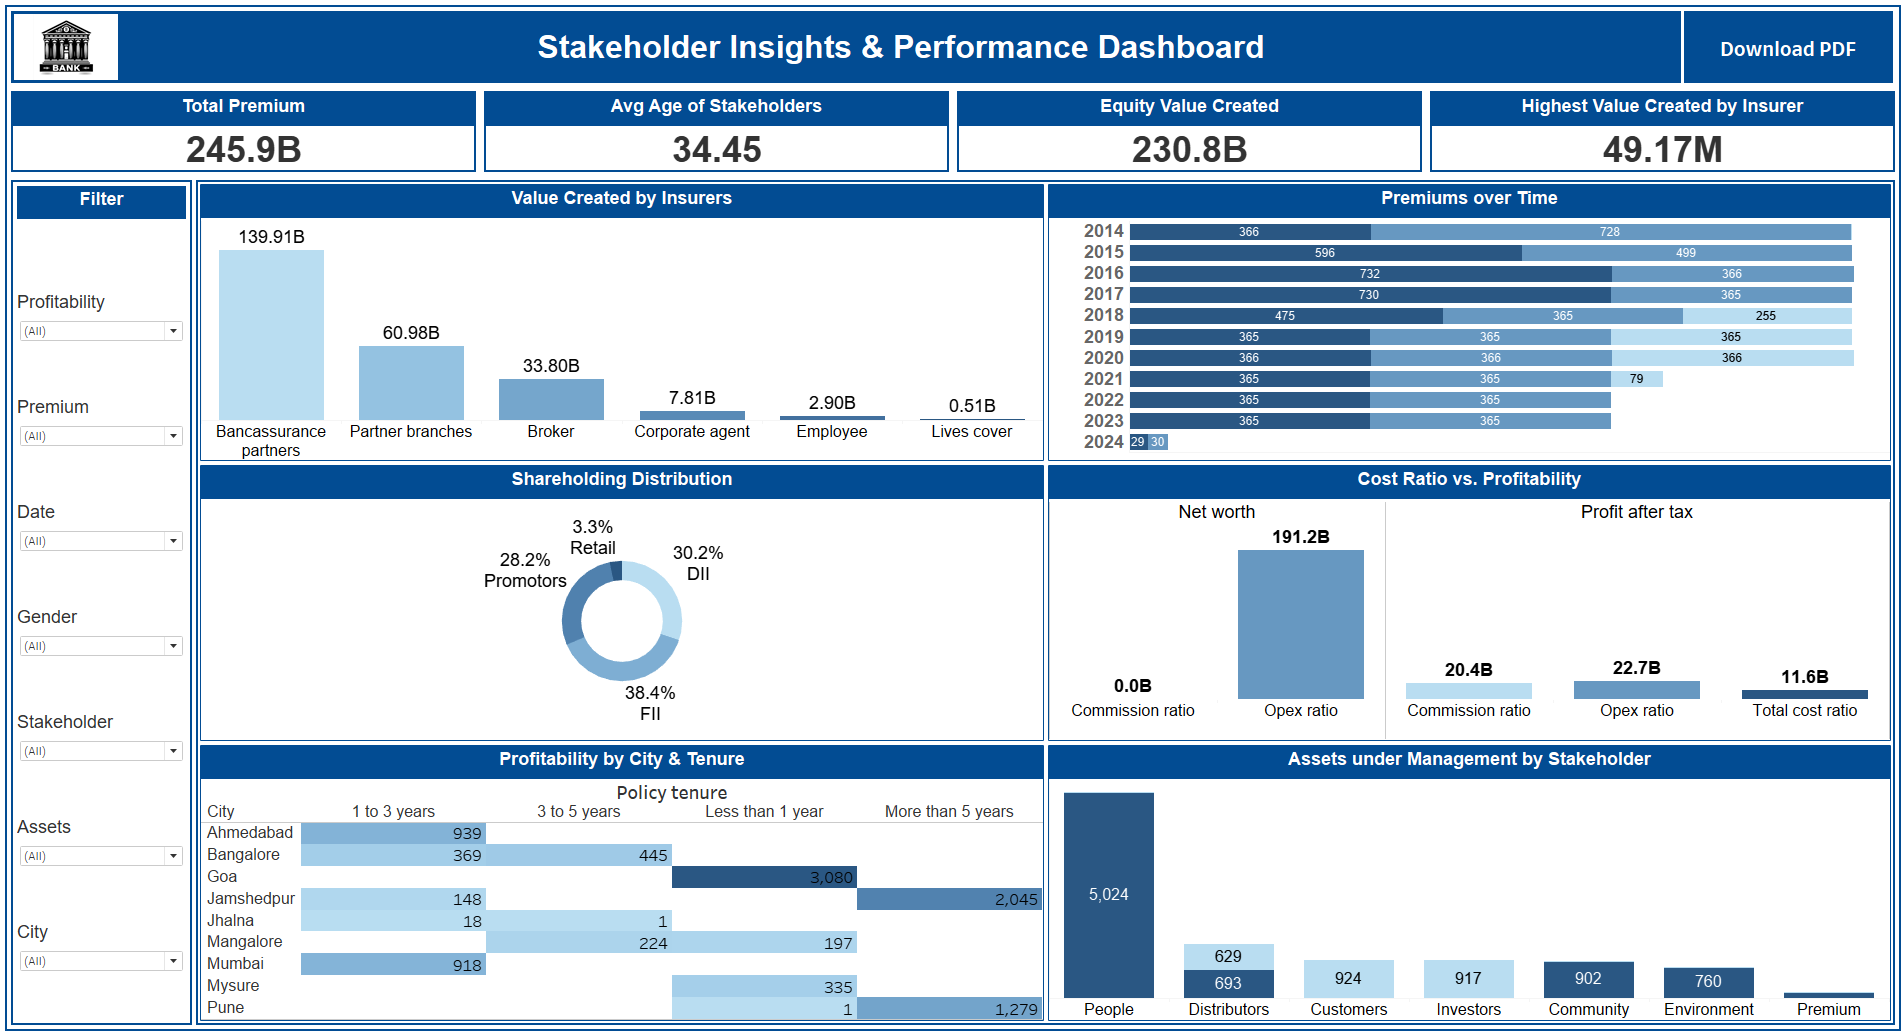

This screenshot's page, from the dashboard's own definition file:
{"tool":"tableau","page":{"name":"Stakeholder Insights & Performance Dashboard","canvas":[1000,1000],"units":"permille","ordinal":0},"visuals":[{"type":"image","param":"C:/Users/ishan/Downloads/bank-logo.png","box":[11.8,21.1,72.1,84.2]},{"type":"text","box":[83.9,21.1,765.4,84.2]},{"type":"blank","box":[849.3,21.1,0.7,84.2]},{"type":"dashboard-object","box":[849.9,21.1,138.3,84.2]},{"type":"worksheet","title":"Total Premium","mark":"Automatic","box":[9.2,109.9,245.7,104.1]},{"type":"worksheet","title":"Avg Age of Stakeholders","mark":"Automatic","box":[254.9,109.9,245.8,104.1]},{"type":"worksheet","title":"Equity Value Created","mark":"Automatic","box":[500.7,109.9,245.1,104.1]},{"type":"worksheet","title":"Highest Value Created by Insurer","mark":"Automatic","box":[745.7,109.9,245.1,104.1]},{"type":"worksheet","title":"Filter","mark":"Automatic","box":[13.1,221.1,116,94.7]},{"type":"worksheet","title":"Value Created by Insurers","mark":"Automatic","rows":["Value Created"],"cols":["Insurer"],"box":[134.3,221.1,426.6,252.6]},{"type":"worksheet","title":"Premiums over Time","mark":"Bar","rows":["Date"],"cols":["Premium 1"],"box":[560.9,221.1,425.9,252.6]},{"type":"filter","title":"Filter","param":"[federated.0di3huq1payyaw1c4g4dv1gvlmkh].[none:Profitability:nk]","box":[13.1,315.8,116,94.7]},{"type":"filter","title":"Filter","param":"[federated.0di3huq1payyaw1c4g4dv1gvlmkh].[none:Premium 1:nk]","box":[13.1,410.5,116,94.7]},{"type":"worksheet","title":"Shareholding Distribution","mark":"Pie","rows":["Calculation_198721354470248448","Calculation_198721354470248448"],"box":[134.3,473.7,426.6,251.5]},{"type":"worksheet","title":"Cost Ratio vs. Profitability","mark":"Automatic","rows":["Value Created"],"cols":["Profitability","Cost ratio"],"box":[560.9,473.7,425.9,251.5]},{"type":"filter","title":"Filter","param":"[federated.0di3huq1payyaw1c4g4dv1gvlmkh].[my:Date:ok]","box":[13.1,505.3,116,94.7]},{"type":"filter","title":"Filter","param":"[federated.0di3huq1payyaw1c4g4dv1gvlmkh].[none:Gender:nk]","box":[13.1,600,116,94.7]},{"type":"filter","title":"Filter","param":"[federated.0di3huq1payyaw1c4g4dv1gvlmkh].[none:Stakeholder:nk]","box":[13.1,694.7,116,94.7]},{"type":"worksheet","title":"Profitability by City & Tenure","mark":"Square","rows":["City"],"cols":["Policy tenuer"],"box":[134.3,725.1,426.6,251.5]},{"type":"worksheet","title":"Assets under Management by Stakeholder","mark":"Automatic","rows":["Assets under management"],"cols":["Stakeholder"],"box":[560.9,725.1,425.9,251.5]},{"type":"filter","title":"Filter","param":"[federated.0di3huq1payyaw1c4g4dv1gvlmkh].[none:Assets under management:nk]","box":[13.1,789.5,116,93.6]},{"type":"filter","title":"Filter","param":"[federated.0di3huq1payyaw1c4g4dv1gvlmkh].[none:City:nk]","box":[13.1,883,116,93.6]}]}

Visuals, with their boxes on the dashboard's canvas, which has no fixed pixel size, in thousandths of its width and height (x1, y1, x2, y2). These are canvas units, not pixel positions in the 1904x1034 screenshot, which may show the page scaled, cropped or inside an application window:
image: [left=12, top=21, right=84, bottom=105]
text: [left=84, top=21, right=849, bottom=105]
blank: [left=849, top=21, right=850, bottom=105]
dashboard-object: [left=850, top=21, right=988, bottom=105]
"Total Premium" worksheet: [left=9, top=110, right=255, bottom=214]
"Avg Age of Stakeholders" worksheet: [left=255, top=110, right=501, bottom=214]
"Equity Value Created" worksheet: [left=501, top=110, right=746, bottom=214]
"Highest Value Created by Insurer" worksheet: [left=746, top=110, right=991, bottom=214]
"Filter" worksheet: [left=13, top=221, right=129, bottom=316]
"Value Created by Insurers" worksheet: [left=134, top=221, right=561, bottom=474]
"Premiums over Time" worksheet (Bar marks): [left=561, top=221, right=987, bottom=474]
"Filter" filter: [left=13, top=316, right=129, bottom=410]
"Filter" filter: [left=13, top=410, right=129, bottom=505]
"Shareholding Distribution" worksheet (Pie marks): [left=134, top=474, right=561, bottom=725]
"Cost Ratio vs. Profitability" worksheet: [left=561, top=474, right=987, bottom=725]
"Filter" filter: [left=13, top=505, right=129, bottom=600]
"Filter" filter: [left=13, top=600, right=129, bottom=695]
"Filter" filter: [left=13, top=695, right=129, bottom=789]
"Profitability by City & Tenure" worksheet (Square marks): [left=134, top=725, right=561, bottom=977]
"Assets under Management by Stakeholder" worksheet: [left=561, top=725, right=987, bottom=977]
"Filter" filter: [left=13, top=790, right=129, bottom=883]
"Filter" filter: [left=13, top=883, right=129, bottom=977]
